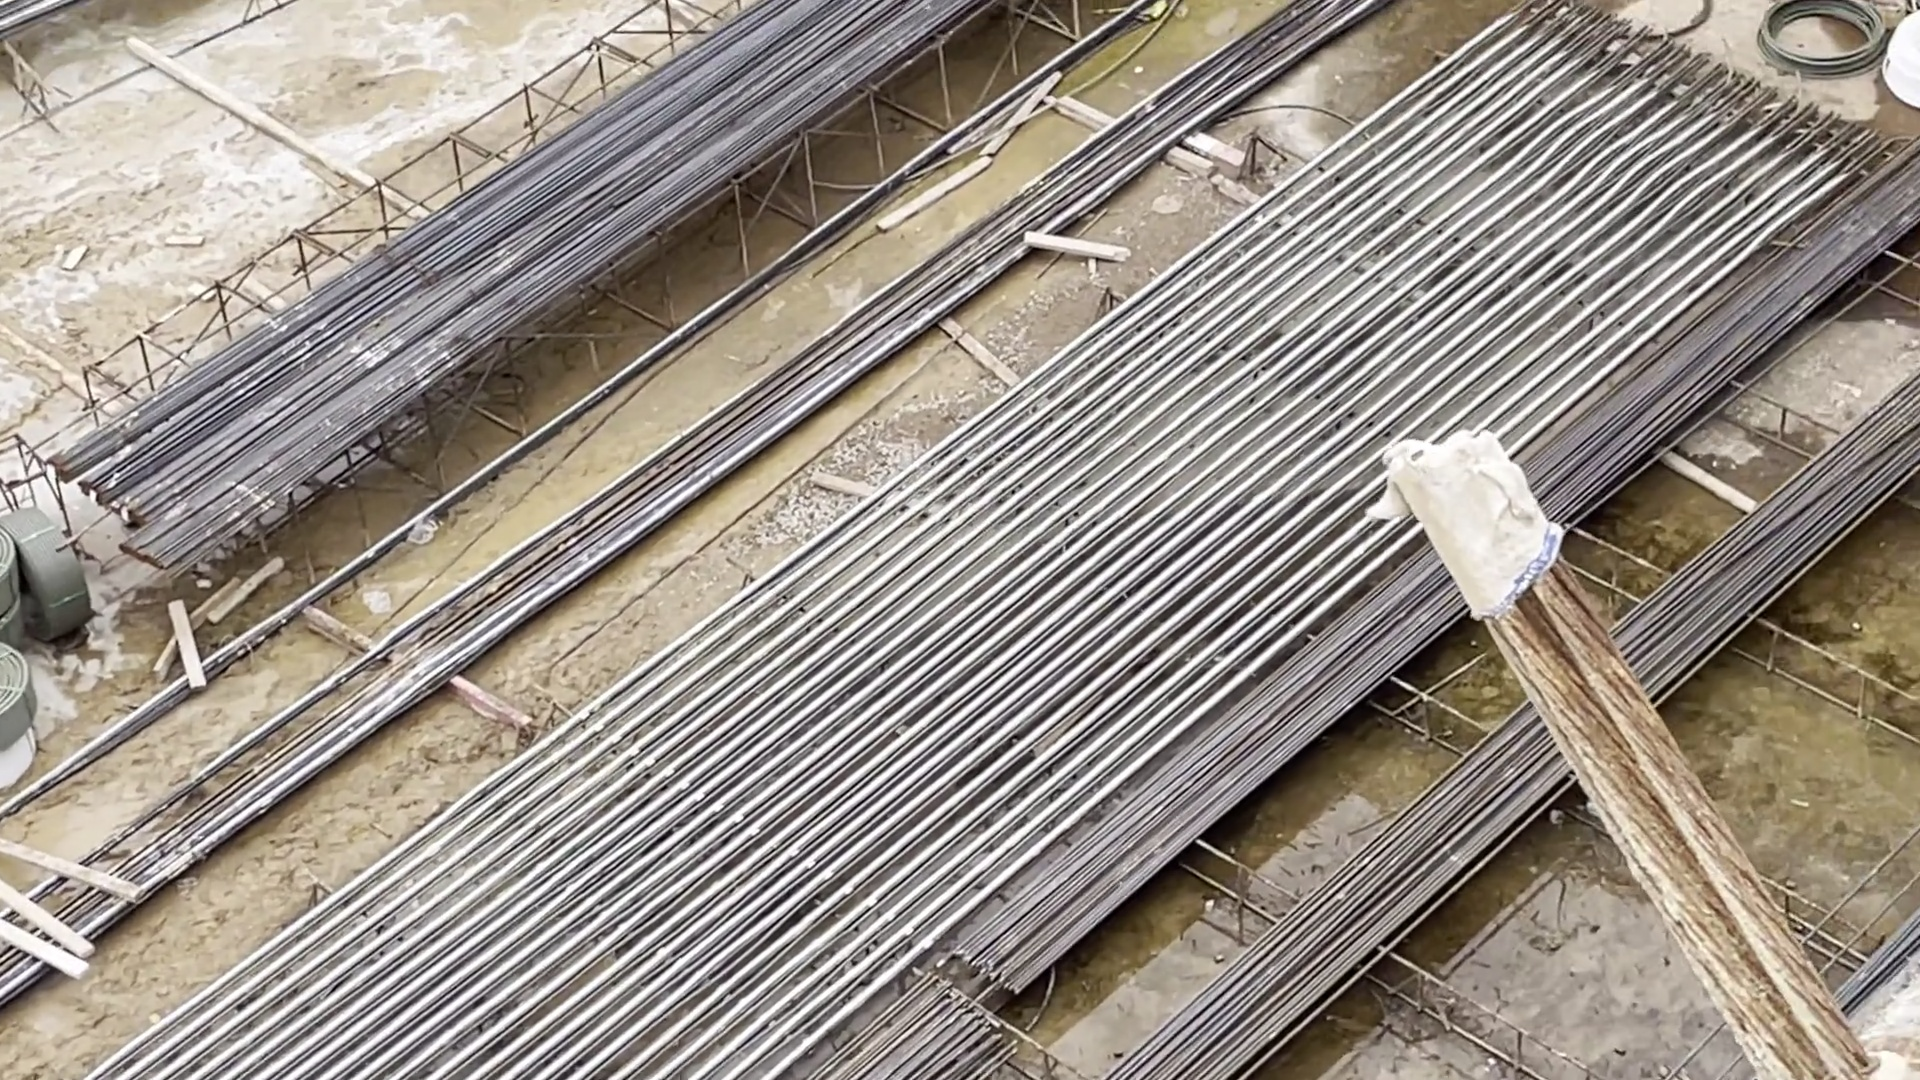rebar: (46, 1, 1025, 568), (815, 607, 1733, 1080), (1389, 164, 1920, 608)
